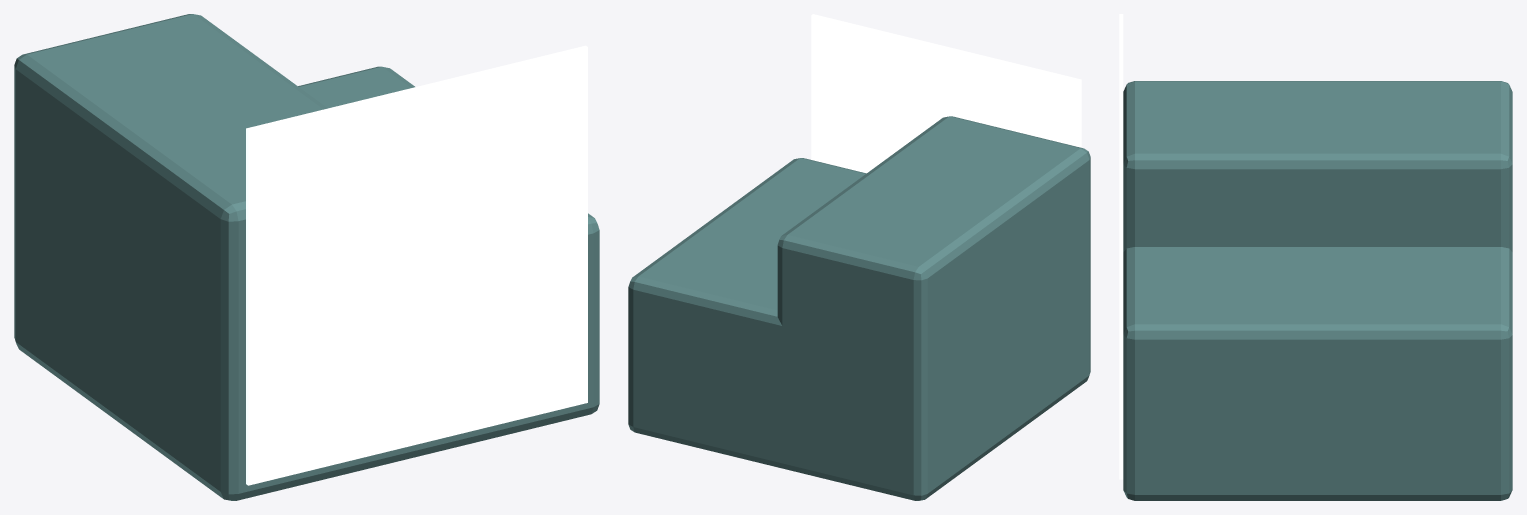
File: canto.glb
The picture shows the model from 3 angles, left to right: view 1: azimuth 30°, elevation 25°; view 2: azimuth 150°, elevation 25°; view 3: azimuth 270°, elevation 25°; orthographic projection. The views are drawn at different scales.
Visible parts, largest first — view 1: borda, parte_b, parte_a; view 2: parte_a, parte_b, borda; view 3: parte_a, parte_b, borda.
Boxes of the visible parts, x1=… form: borda: x1=246, y1=45, x2=587, y2=485; parte_b: x1=14, y1=14, x2=327, y2=395; parte_a: x1=14, y1=66, x2=599, y2=500; parte_a: x1=628, y1=158, x2=1090, y2=500; parte_b: x1=777, y1=116, x2=1090, y2=417; borda: x1=811, y1=14, x2=1081, y2=173; parte_a: x1=1123, y1=247, x2=1512, y2=500; parte_b: x1=1123, y1=81, x2=1512, y2=251; borda: x1=1119, y1=14, x2=1123, y2=479.
Bounding box in the file's own units: 1 × 0.95 × 1.01.
